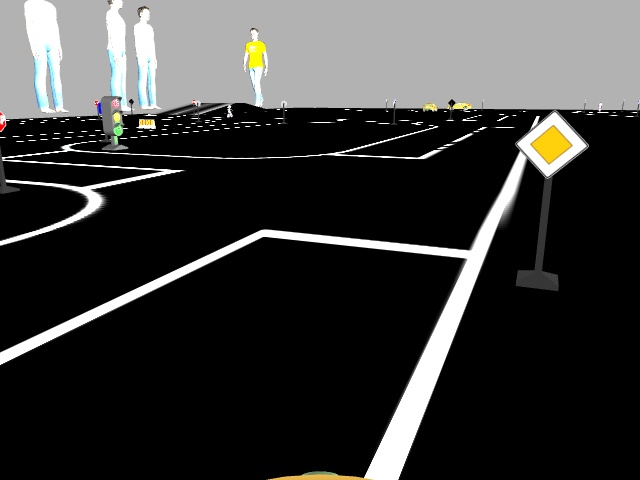ClosedRoadStand: (138, 118, 156, 127)
Priority: (522, 112, 578, 172)
TrafficLight: (100, 98, 123, 135)
